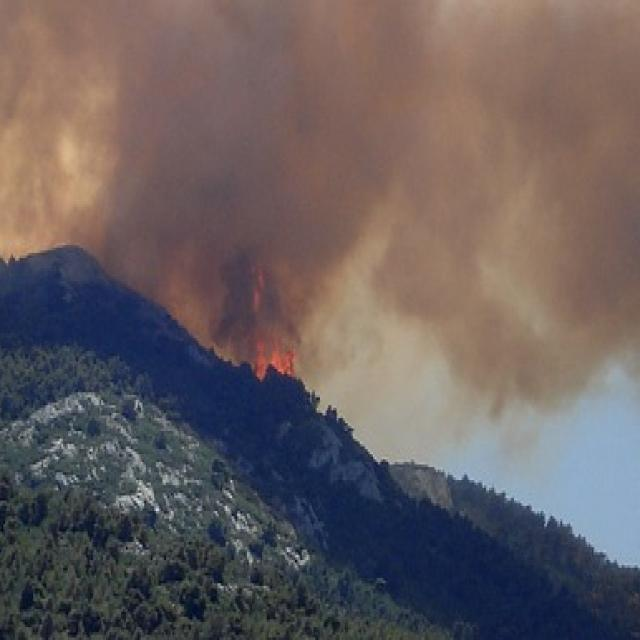Fire: (246, 333, 297, 380)
Smoke: (0, 0, 640, 442)
